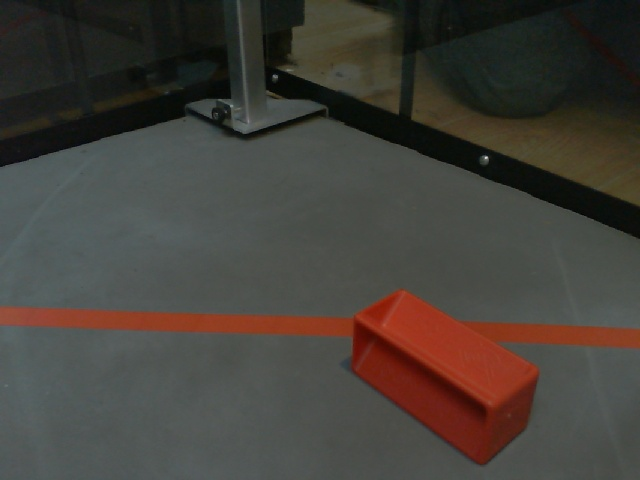RedSample: (349, 288, 543, 465)
